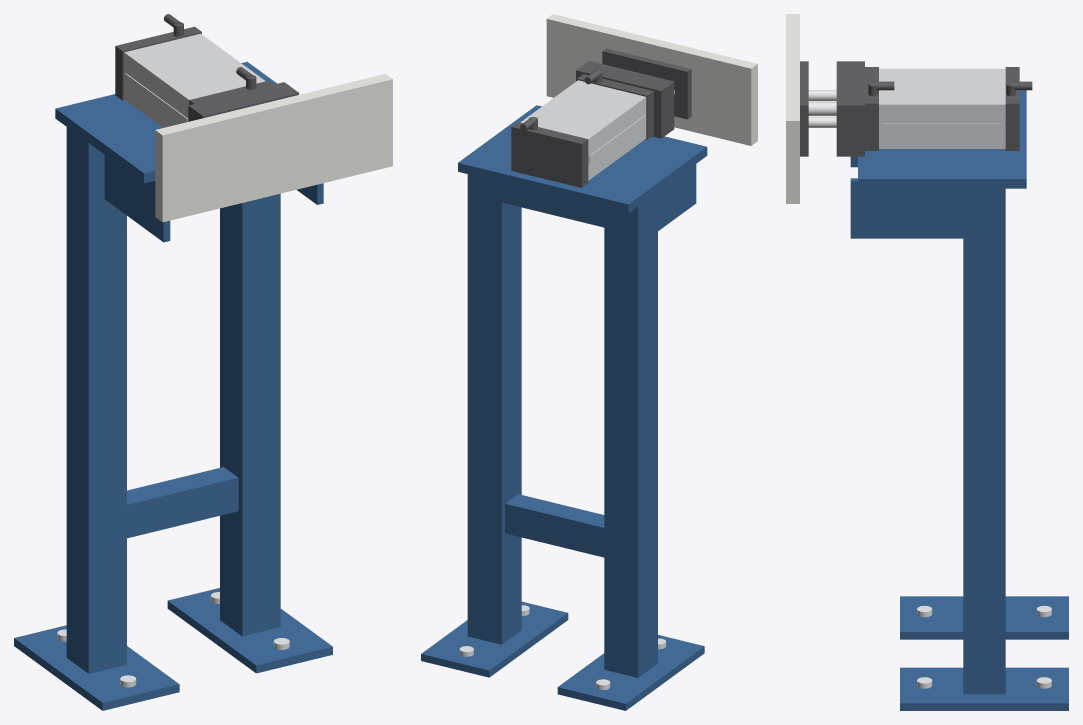
File: pusher-station.glb
The picture shows the model from 3 angles, left to right: view 1: azimuth 30°, elevation 25°; view 2: azimuth 150°, elevation 25°; view 3: azimuth 270°, elevation 25°; orthographic projection. The views are drawn at different scales.
Visible parts, largest first — view 1: Body, Pusher; view 2: Body, Pusher; view 3: Body, Pusher.
Part boxes in pixels (x1,y1,x2,y2): Body: [14, 14, 332, 710]; Pusher: [155, 74, 392, 222]; Body: [421, 60, 707, 710]; Pusher: [546, 14, 757, 145]; Body: [836, 61, 1068, 710]; Pusher: [786, 14, 836, 203].
Bounding box in the file's own units: 0.36 × 0.925 × 0.402.
